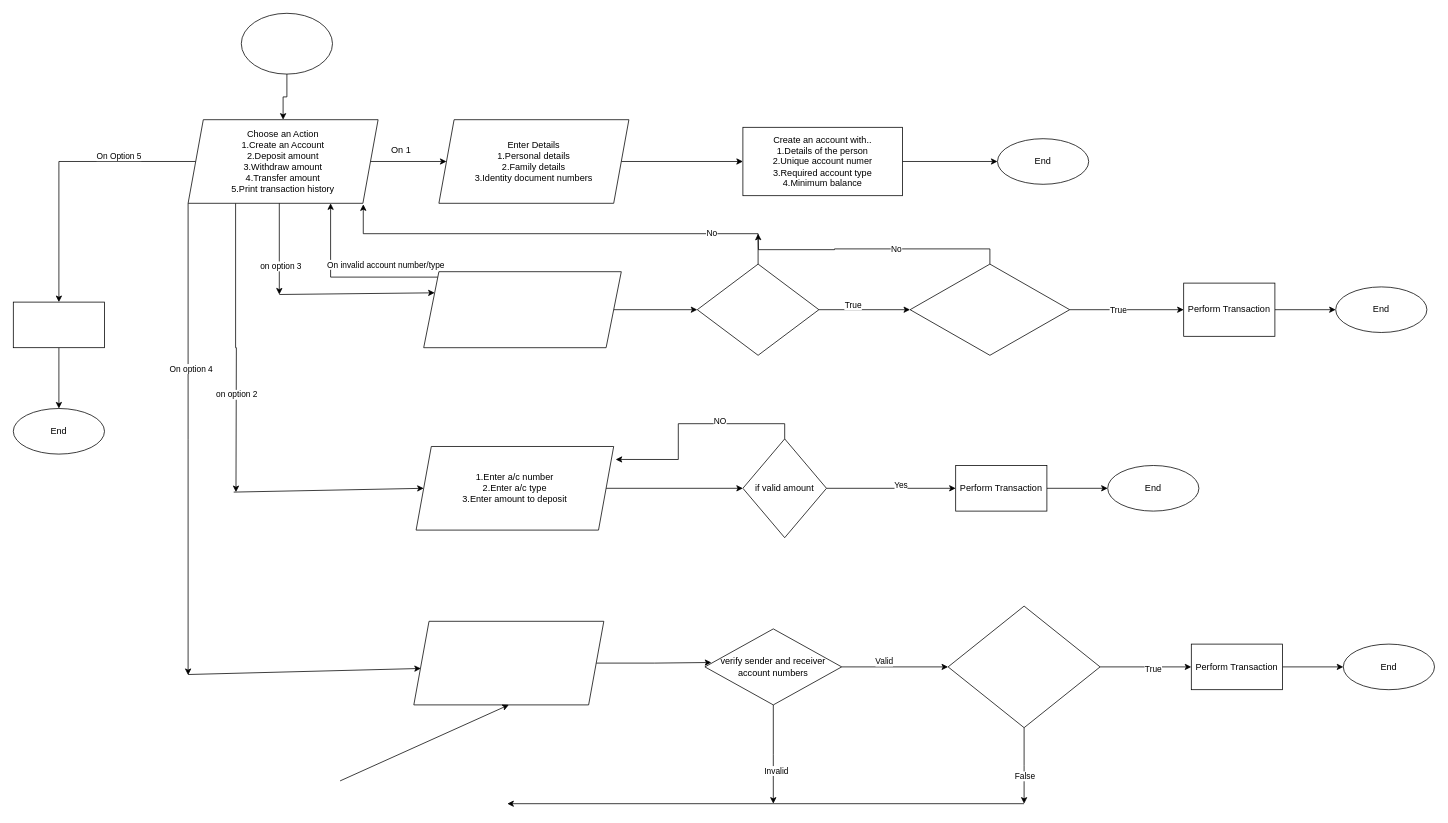
This 1448x823 diagram has some shape labels left out. The box of each missing label's shape, as (x1, y1, x2, y2) in pixels:
1.Enter a/c number 2.Enter account type 3.Enter amount: (423, 271, 621, 348)
1.Enter a/c number 2.Enter receiver a/c number 3.Enter amount to transfer: (413, 621, 604, 705)
Check sender's available balance: (947, 605, 1100, 728)
if amount <= balance: (697, 263, 819, 355)
if amount <= day_limit || amount <=transaction_limit: (909, 263, 1070, 355)
Print transaction history: (13, 301, 104, 348)
Start: (241, 13, 332, 74)
